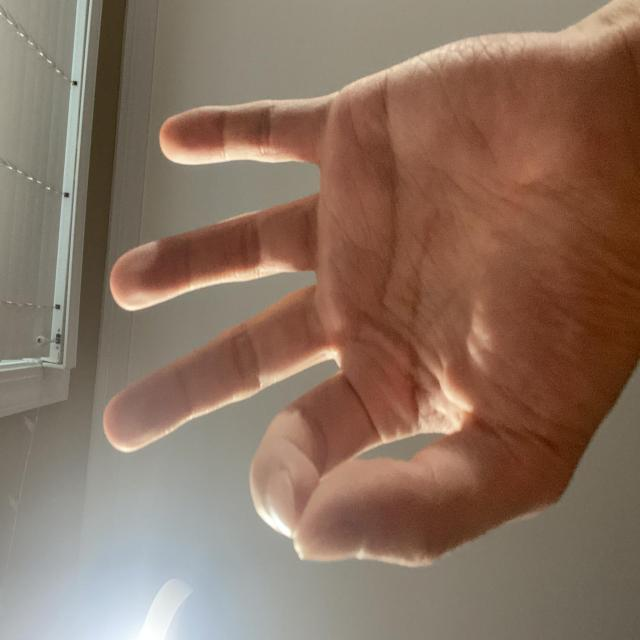F: (40, 127, 479, 640)
